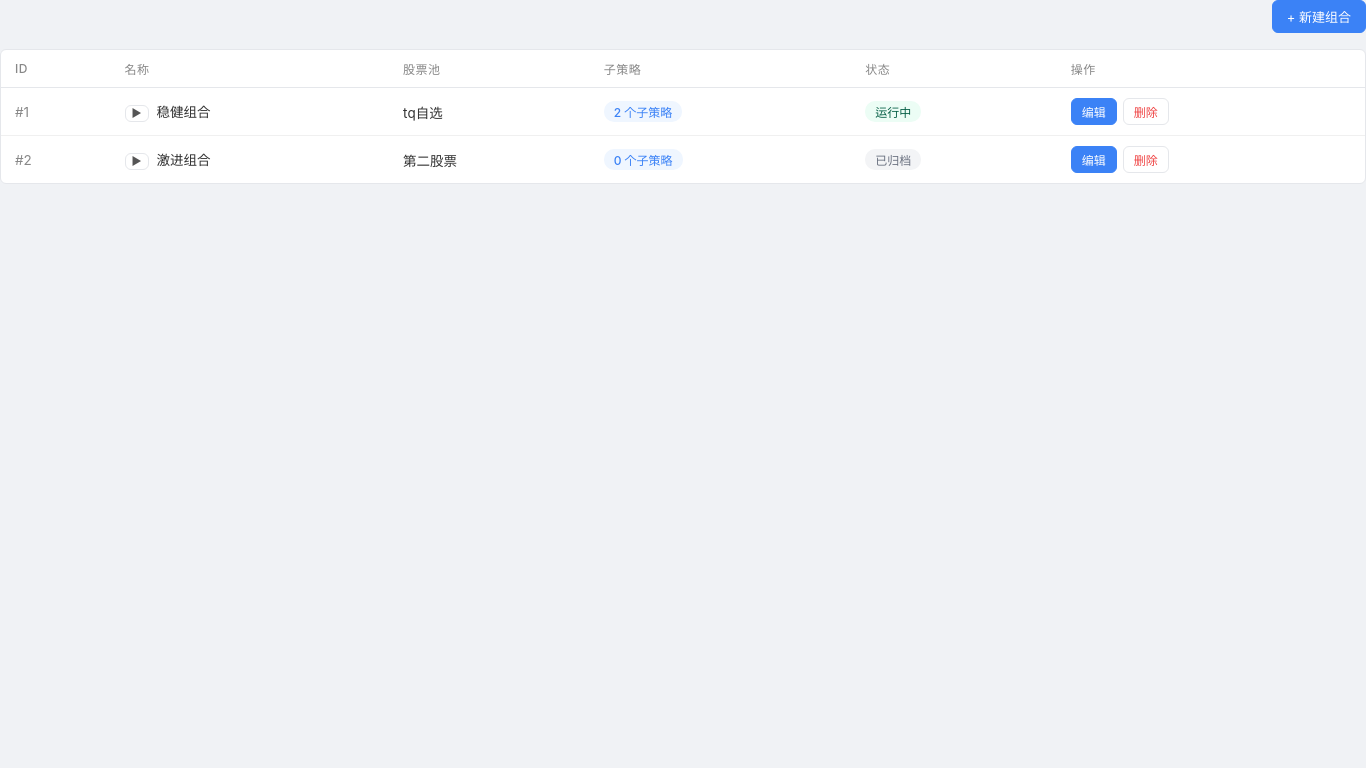
Test case: Portfolios.vue — 子策略（树状子行 + 弹窗） › 点[+新建子策略]弹 Modal，含风控/加仓参数字段且显示名称
What coordinates should you click on to do the following:
click the button with class "toggle-expand" next to "稳健组合"
I would click on:
 (137, 114)
Its box is [125, 105, 149, 122].
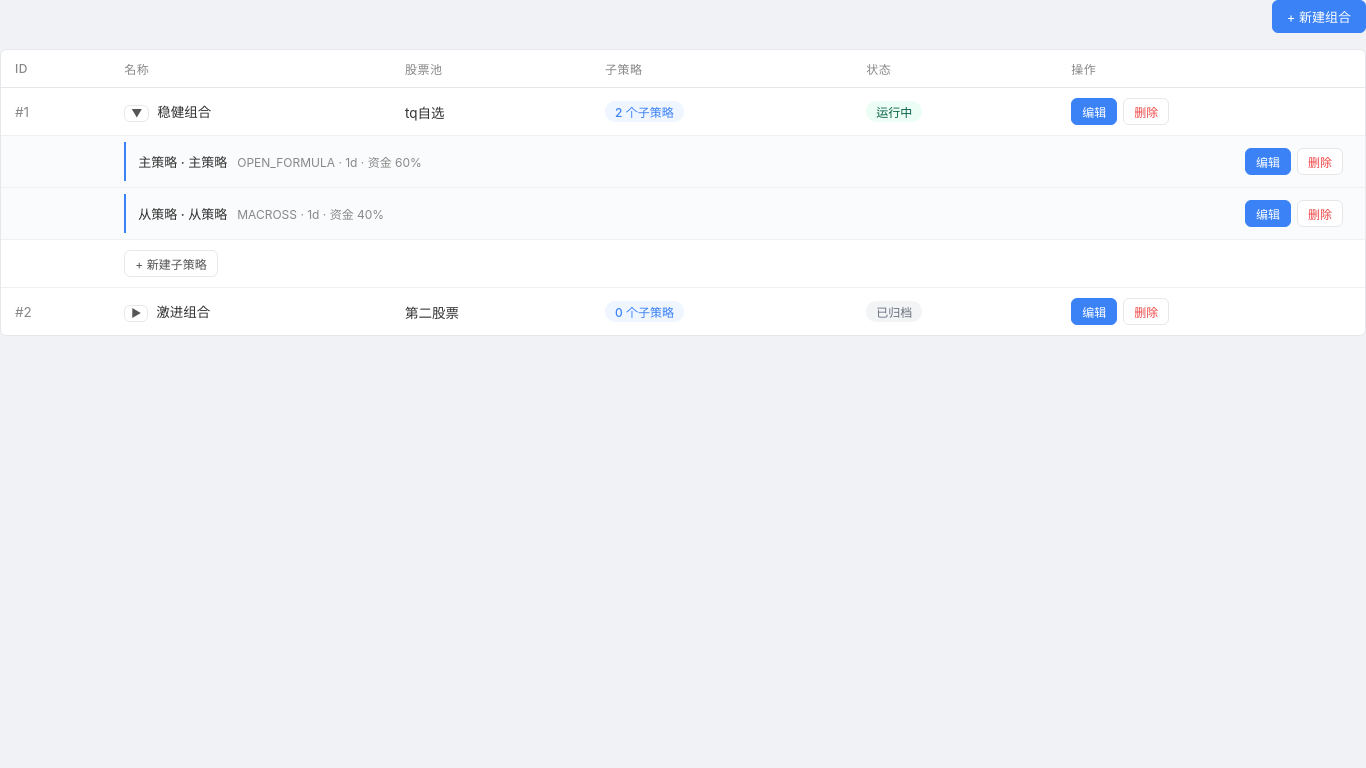
What coordinates should you click on to do the following:
click the button "+ 新建子策略"
I would click on:
 (171, 264)
Its box is [124, 250, 218, 277].
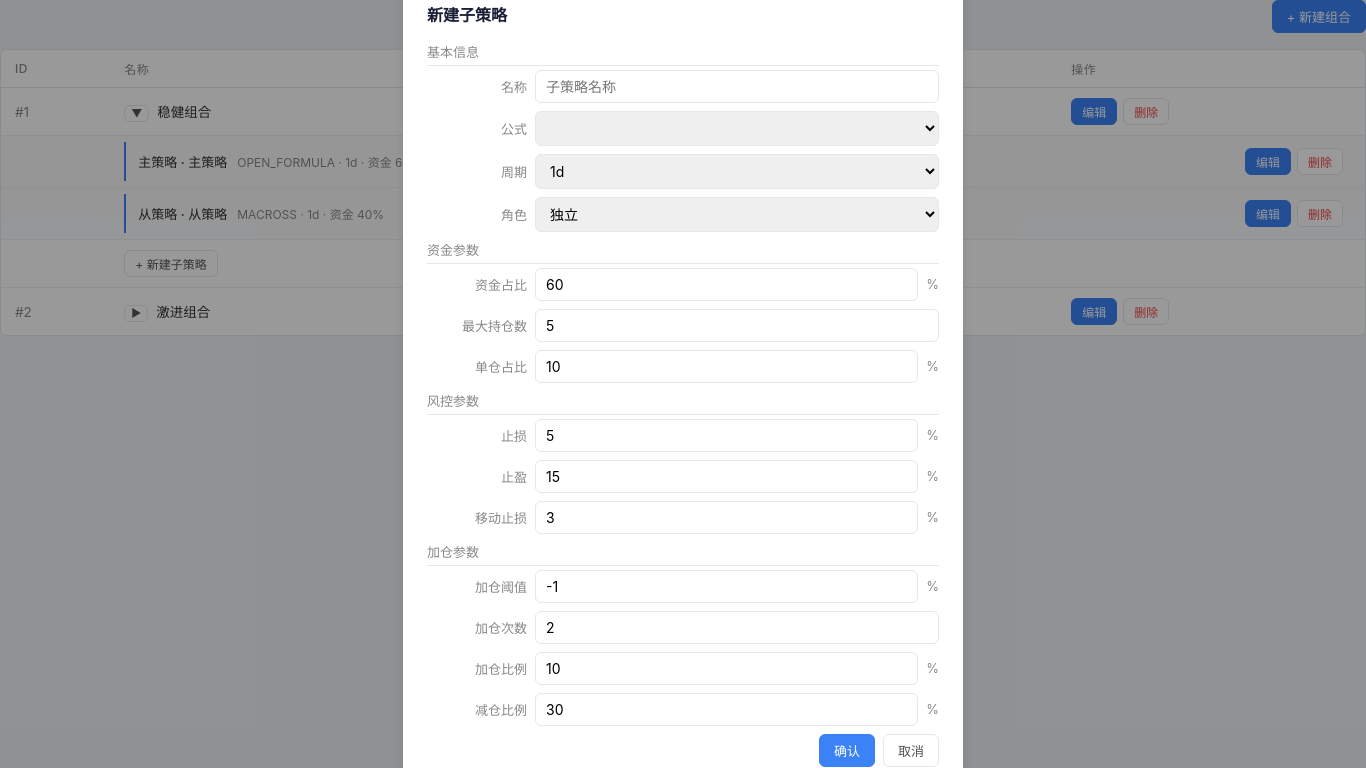
Expected: the element with class "modal-overlay" is shown
Expected: the text "止损" is shown, [501, 428, 527, 444]
Expected: the text "止盈" is shown, [501, 468, 527, 484]
